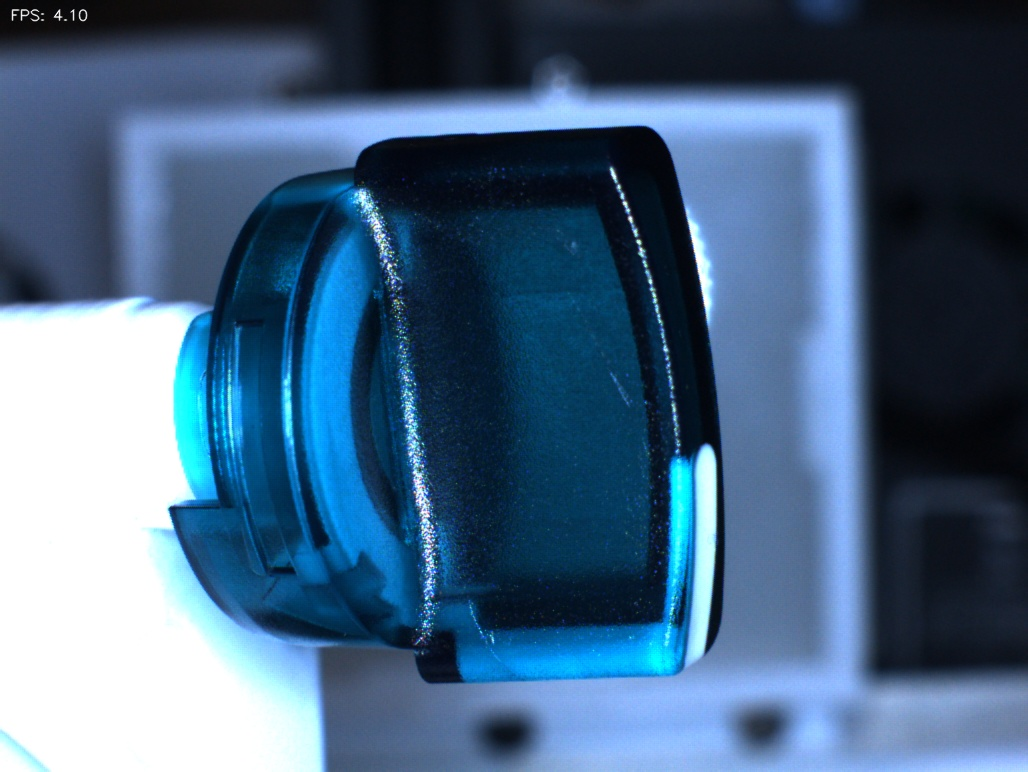Givrage: (566, 292, 662, 467)
